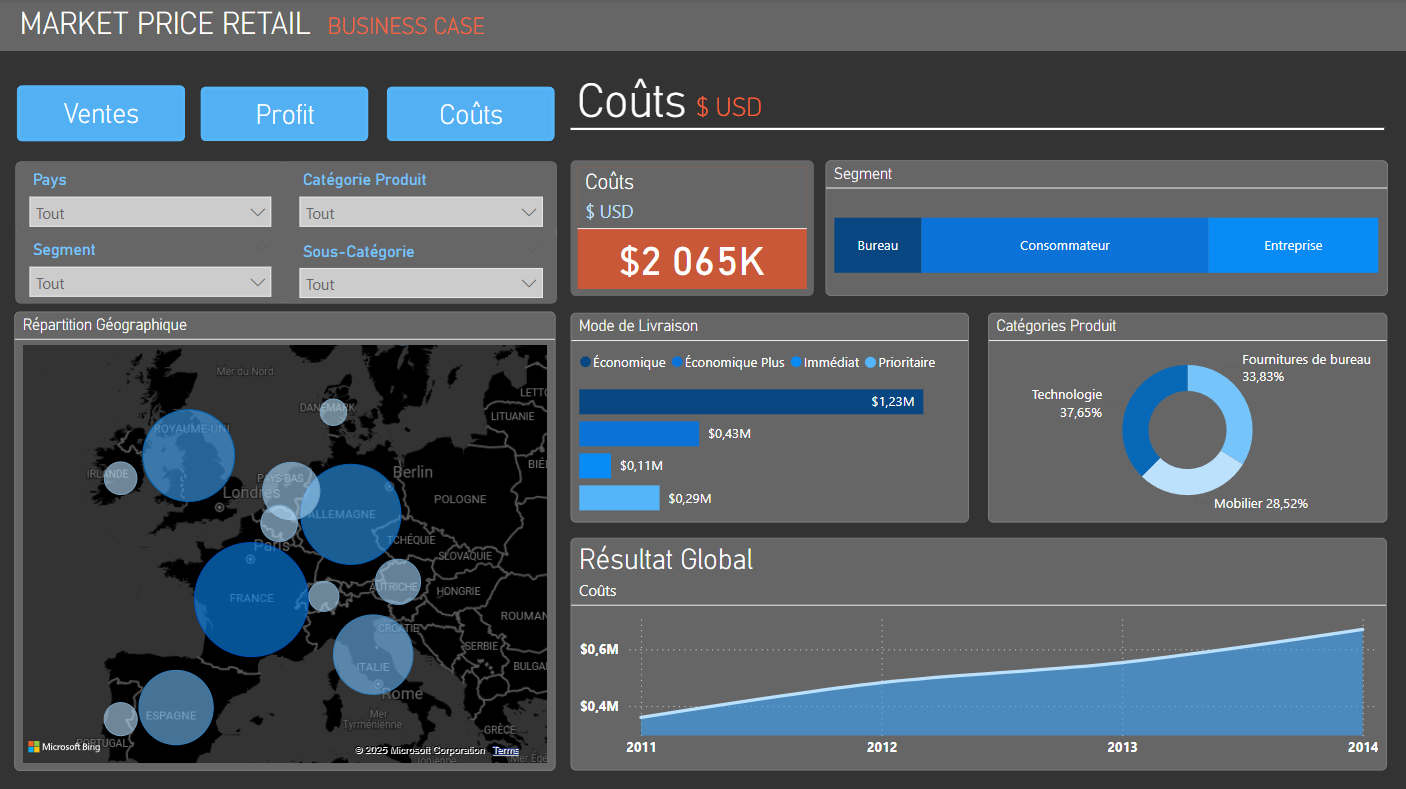

The dashboard page shown, as its layout file describes it:
{"tool":"powerbi","page":{"name":"Vue Globale","canvas":[1280,720],"ordinal":0},"visuals":[{"type":"shape","box":[16,147,491,129],"z":0},{"type":"clusteredBarChart","title":"Mode de Livraison","fields":{"Series":["Market_retail_nettoye.Mode Livraison"],"Y":["Sum(Market_retail_nettoye.CA TTC)"]},"box":[520,283.8,361.2,190],"z":0,"group":"g1"},{"type":"shape","box":[0,0,1280,47.5],"z":1000},{"type":"donutChart","title":"Catégories Produit","fields":{"Y":["Sum(Market_retail_nettoye.CA TTC)"],"Category":["Market_retail_nettoye.Catégorie"]},"box":[898.8,283.8,362.5,190],"z":1000,"group":"g1"},{"type":"slicer","fields":{"Values":["Market_retail_nettoye.Pays"]},"box":[16,147,245,64],"z":2000},{"type":"shape","box":[520,98.6,741.4,38.6],"z":3000},{"type":"textbox","box":[14.5,0,445.6,47.7],"z":4000},{"type":"slicer","fields":{"Values":["Market_retail_nettoye.Segment"]},"box":[16,211,245,65],"z":5000},{"type":"slicer","fields":{"Values":["Market_retail_nettoye.Catégorie"]},"box":[261,147,246,64],"z":6000},{"type":"slicer","fields":{"Values":["Market_retail_nettoye.Sous-Catégorie"]},"box":[261,212,246,64],"z":7000},{"type":"actionButton","box":[17,78.3,153.1,51],"z":8000},{"type":"actionButton","box":[183.7,79.4,153.1,49.9],"z":9000},{"type":"actionButton","box":[352.7,79.4,153.1,49.9],"z":10000},{"type":"map","title":"Répartition Géographique","fields":{"Category":["Market_retail_nettoye.Pays"],"Size":["Sum(Market_retail_nettoye.Ventes)"]},"box":[15,283.8,491.2,416.2],"z":11000},{"type":"areaChart","title":"Résultat Global","fields":{"Category":["Date.Année"],"Y":["Sum(Market_retail_nettoye.CA TTC)"],"Y2":["Sum(Market_retail_nettoye.Quantité)"]},"box":[520,488.8,741.2,211.2],"z":12000},{"type":"card","title":"Total Ventes","fields":{"Values":["Sum(Market_retail_nettoye.CA TTC)"]},"box":[518.6,147.1,221.4,122.9],"z":13000},{"type":"group","id":"g1","title":"Groupe 2","box":[520,283.8,741.2,190],"z":14000},{"type":"textbox","title":"Ventes","box":[520,67.1,264.3,45.7],"z":15000},{"type":"hundredPercentStackedBarChart","title":"Segment","fields":{"Y":["Sum(Market_retail_nettoye.CA TTC)"],"Series":["Market_retail_nettoye.Segment"]},"box":[750,147.1,510,122.9],"z":16000},{"type":"textbox","title":"$ USD","box":[661.5,84.9,176.9,26.5],"z":17000},{"type":"actionButton","title":"Vtes appuyé","box":[16.6,77.7,154.4,51.8],"z":31000}]}

Visuals, with their boxes in screenshot pixels (x1, y1, x2, y2), scaled from the page's 1280x720 canvas onto the 1406x789 screenshot:
shape: locate(18, 161, 557, 302)
"Mode de Livraison" clusteredBarChart: locate(571, 311, 968, 519)
shape: locate(0, 0, 1405, 52)
"Catégories Produit" donutChart: locate(987, 311, 1385, 519)
slicer - Market_retail_nettoye.Pays: locate(18, 161, 287, 231)
shape: locate(571, 108, 1386, 150)
textbox: locate(16, 0, 505, 52)
slicer - Market_retail_nettoye.Segment: locate(18, 231, 287, 302)
slicer - Market_retail_nettoye.Catégorie: locate(287, 161, 557, 231)
slicer - Market_retail_nettoye.Sous-Catégorie: locate(287, 232, 557, 302)
actionButton: locate(19, 86, 187, 142)
actionButton: locate(202, 87, 370, 142)
actionButton: locate(387, 87, 556, 142)
"Répartition Géographique" map: locate(16, 311, 556, 767)
"Résultat Global" areaChart: locate(571, 536, 1385, 767)
"Total Ventes" card: locate(570, 161, 813, 296)
"Groupe 2" group: locate(571, 311, 1385, 519)
"Ventes" textbox: locate(571, 74, 862, 124)
"Segment" hundredPercentStackedBarChart: locate(824, 161, 1384, 296)
"$ USD" textbox: locate(727, 93, 921, 122)
"Vtes appuyé" actionButton: locate(18, 85, 188, 142)
